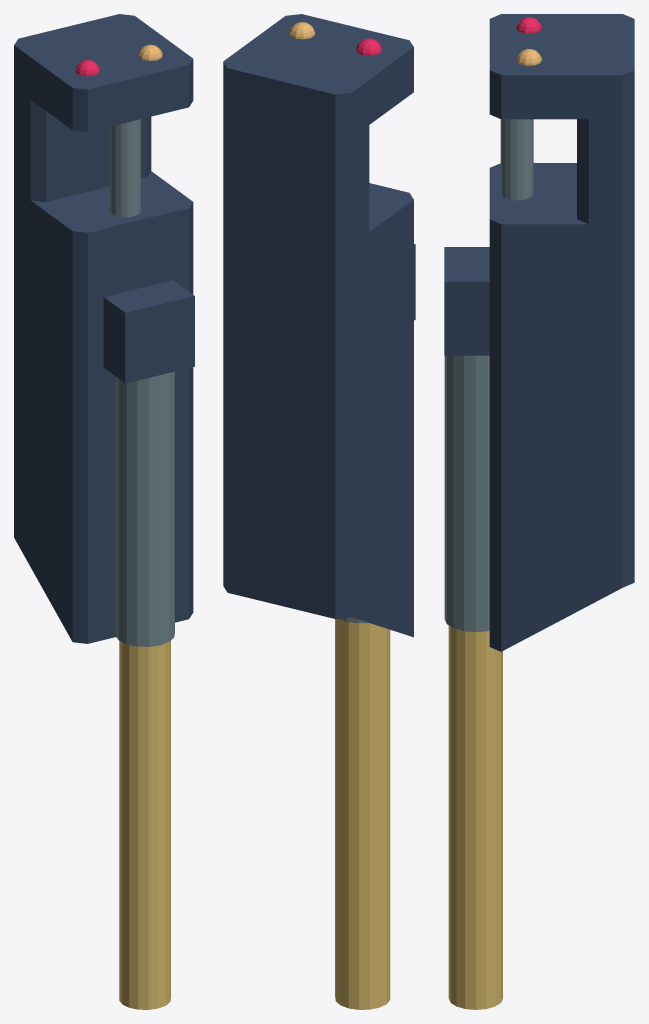
Rendered from Fuel_absorber.fbx.
The picture shows the model from 3 angles, left to right: view 1: azimuth 30°, elevation 25°; view 2: azimuth 150°, elevation 25°; view 3: azimuth 270°, elevation 25°; orthographic projection. The views are drawn at different scales.
Parts seen in each view (by area): view 1: Cube, Cylinder, Cylinder.001, Cube.002, Cube.003, Cube.001, Cylinder.002; view 2: Cube, Cylinder, Cube.003, Cube.002; view 3: Cube, Cylinder, Cube.002, Cylinder.001, Cube.003, Cube.001, Cylinder.002.
Boxes of the visible parts, bbox=[...] form: Cube: bbox=[14, 171, 193, 643]; Cylinder: bbox=[119, 640, 170, 1009]; Cylinder.001: bbox=[115, 371, 174, 646]; Cube.002: bbox=[14, 14, 193, 131]; Cube.003: bbox=[14, 88, 151, 202]; Cube.001: bbox=[103, 280, 194, 383]; Cylinder.002: bbox=[109, 119, 140, 217]; Cube: bbox=[223, 183, 413, 637]; Cylinder: bbox=[335, 618, 390, 1009]; Cube.003: bbox=[223, 97, 369, 253]; Cube.002: bbox=[223, 14, 413, 139]; Cube: bbox=[489, 163, 634, 651]; Cylinder: bbox=[448, 625, 502, 1009]; Cube.002: bbox=[489, 14, 634, 119]; Cylinder.001: bbox=[444, 355, 489, 632]; Cube.003: bbox=[577, 105, 634, 232]; Cube.001: bbox=[444, 247, 489, 355]; Cylinder.002: bbox=[500, 119, 533, 200].
Size of the model in its own units: 67.46 by 496 by 88.51.
